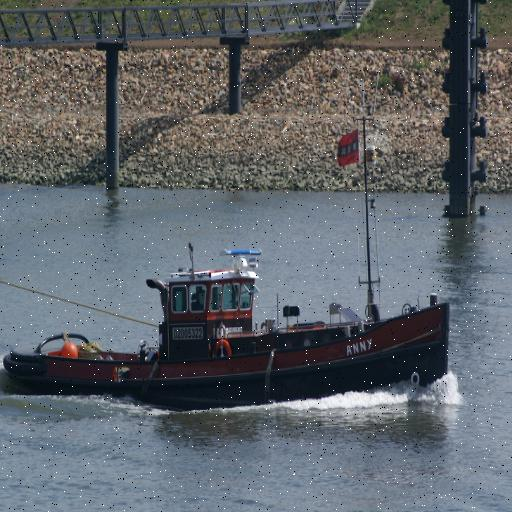tugboat: (1, 240, 457, 434)
